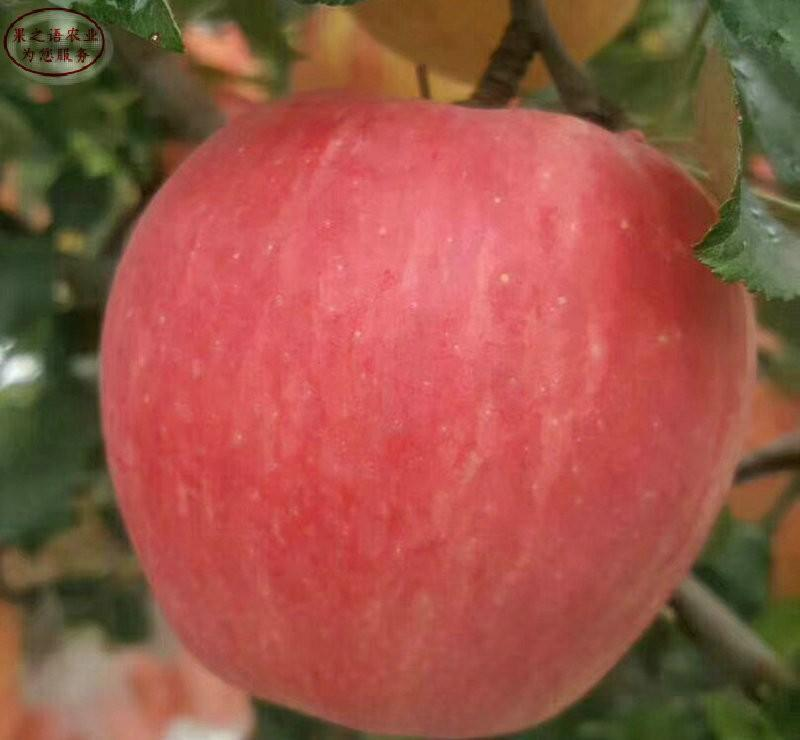apple: (94, 85, 779, 726)
